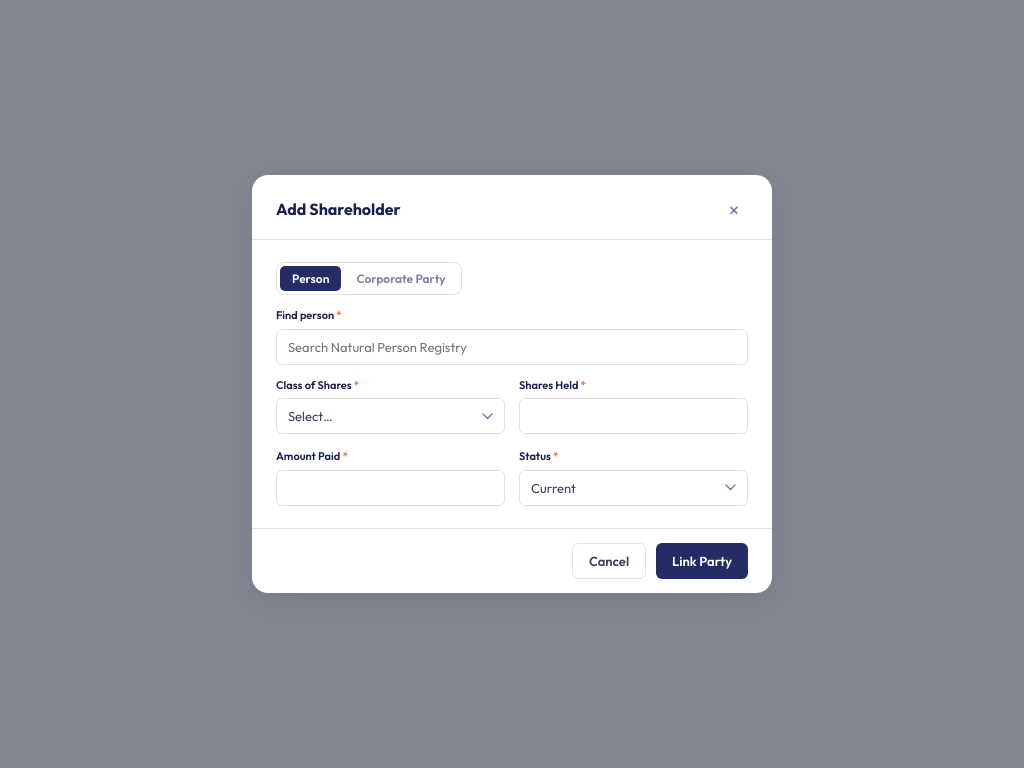
Test: LinkPartyModal › names EVERY required box a shareholder is missing, not just the first
Type "john" into the field named "Search parties" at (512, 347), box x1=276 y1=329 x2=748 y2=365
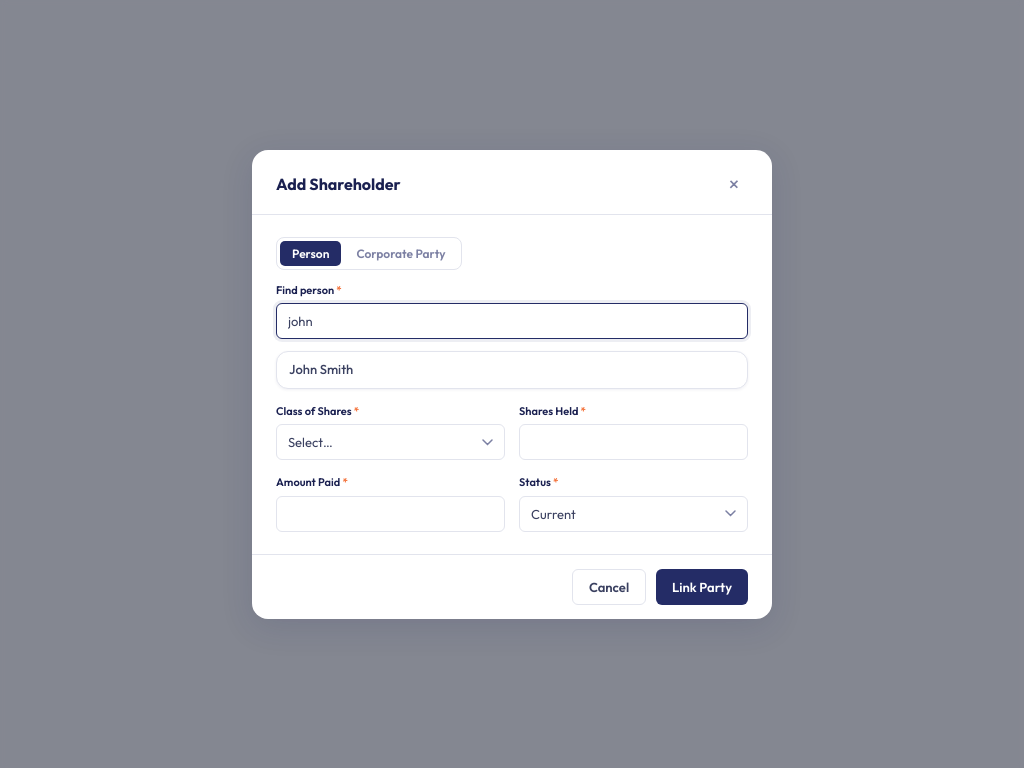
Click the text "John Smith" at (321, 370), box x1=289 y1=360 x2=353 y2=380
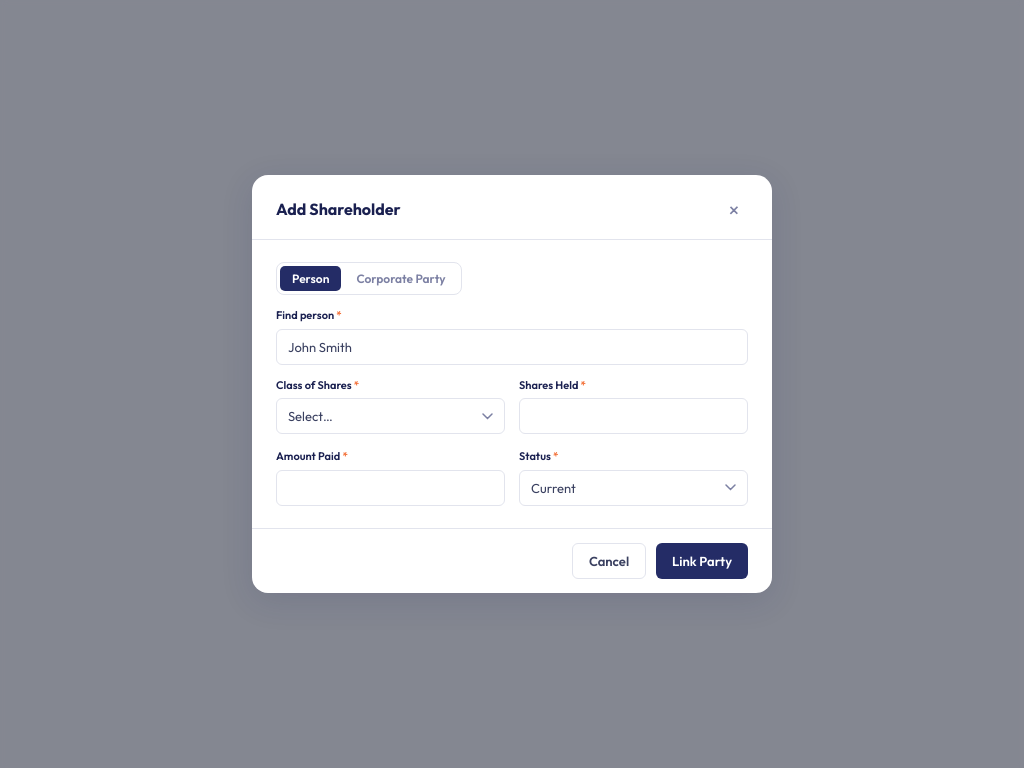
Click the button "Link Party" at (702, 561), box x1=656 y1=543 x2=748 y2=579
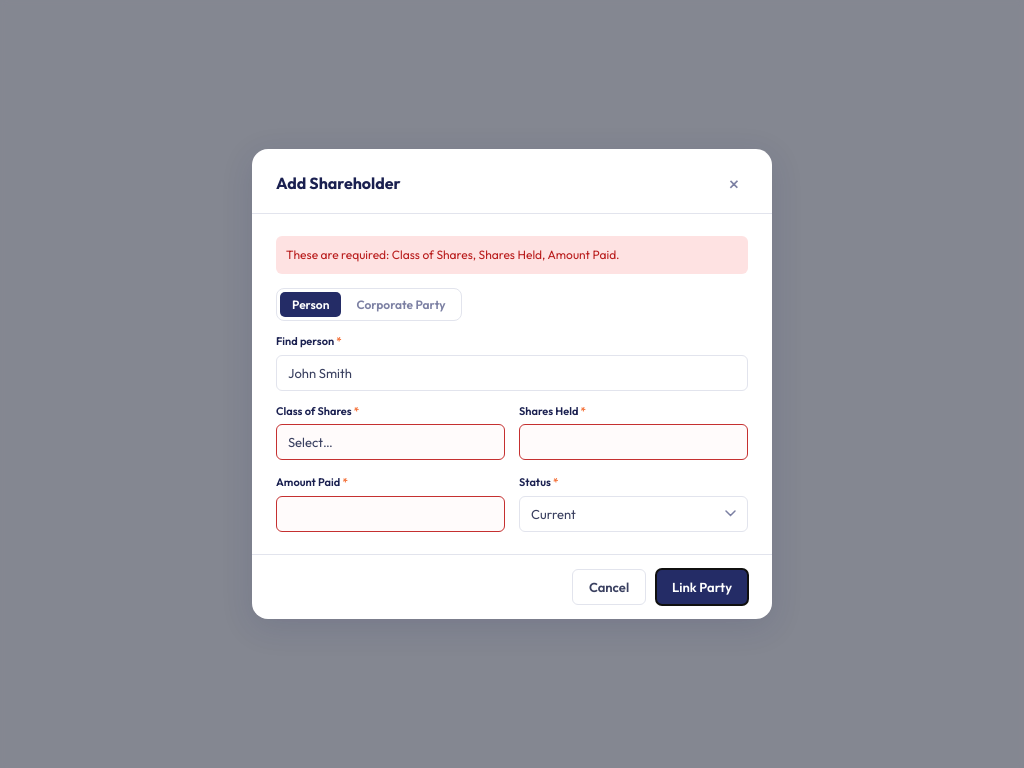
Check: the text "These are required: Class of Shares, Shares Held, Amount Paid." is shown, box x1=276 y1=236 x2=748 y2=274
